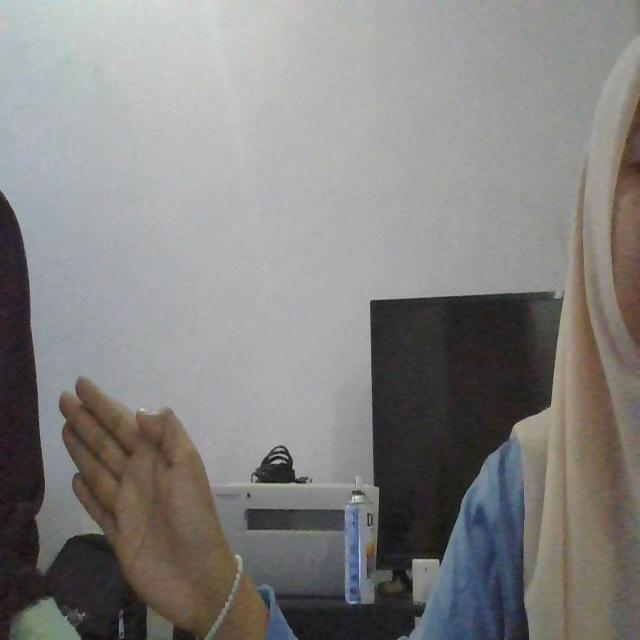hand: (58, 372, 259, 640)
